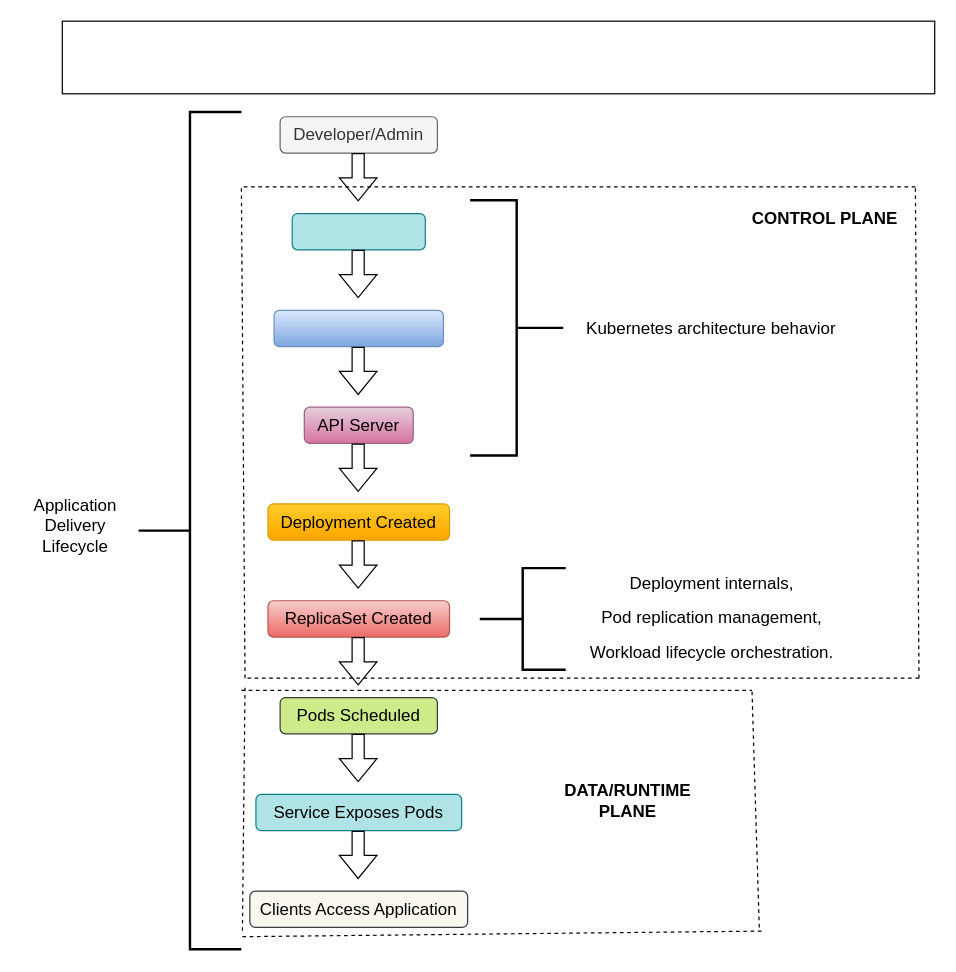
Some shapes in this 956 by 972 pixel diagram are drawn without their labels. The box of each missing label's shape, as (x1, y1, x2, y2) in pixels:
Deployment YAML: (273, 309, 443, 347)
kubectl apply: (291, 212, 425, 250)
Kubernetes Object Lifecycle via kubectl: (61, 20, 935, 94)
